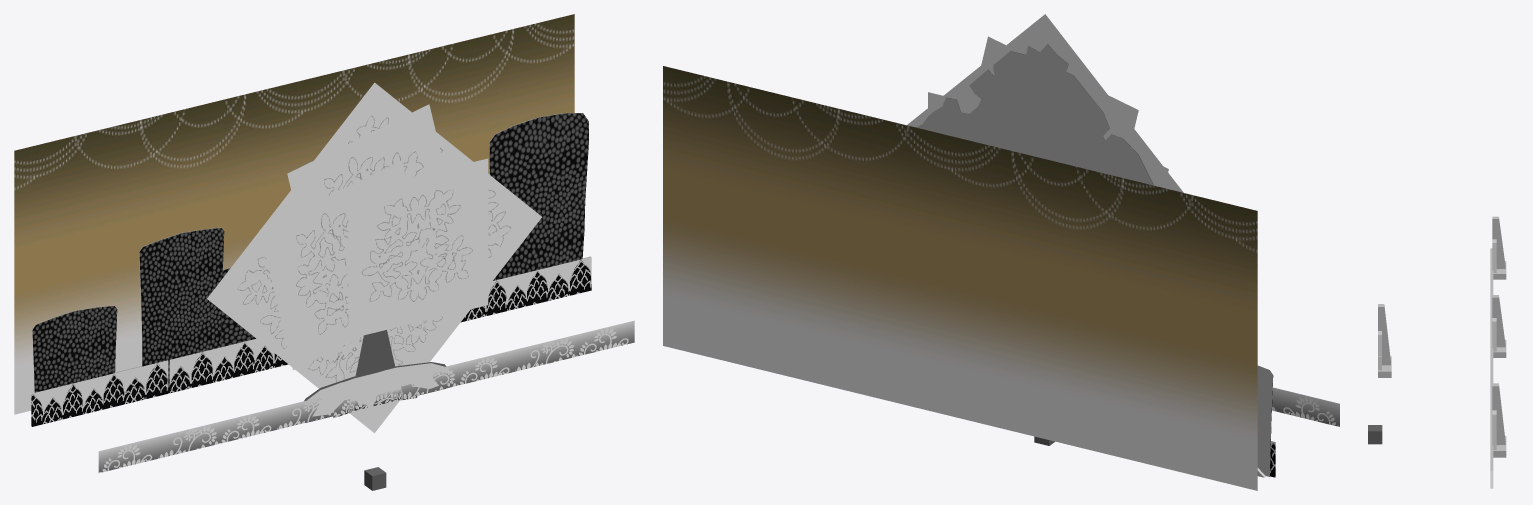
Rendered from stg_02_0_bake_split.dae.
3 renders of one model, left to right at view 1: azimuth 30°, elevation 25°; view 2: azimuth 150°, elevation 25°; view 3: azimuth 270°, elevation 25°, orthographic. The views are drawn at different scales.
Visible parts, largest first — view 1: pPlane442_q00034, S_tree_02_06_VC, S_tree_02_02_VC, pPlane59_q00014, pPlane45_q00013, S_tree_02_05_VC, S_kusa_01_VC, polySurface1257_q00016, S_tree_02_06, S_tree_02_04_VC, pPlane65_q00015, S_tree_02_02 (+8 smaller); view 2: pPlane442_q00034, S_tree_02_08, S_tree_02_02_VC, polySurface1258_q00033, S_kusa_01_VC; view 3: polySurface1252_q00029, pCube24_q00025, pCube24_q00022, pCube24_q00019, pCube24_q00006, pCube25_q00000, pCube23_q00024, pCube22_q00023.
Part boxes in pixels (x1,y1,x2,y2): pPlane442_q00034: (14, 14, 574, 414); S_tree_02_06_VC: (348, 158, 488, 338); S_tree_02_02_VC: (207, 82, 541, 433); pPlane59_q00014: (489, 113, 588, 279); pPlane45_q00013: (139, 228, 224, 393); S_tree_02_05_VC: (259, 160, 405, 370); S_kusa_01_VC: (98, 320, 634, 472); polySurface1257_q00016: (31, 260, 591, 426); S_tree_02_06: (362, 189, 472, 301); S_tree_02_04_VC: (287, 104, 444, 211); pPlane65_q00015: (32, 306, 117, 392); S_tree_02_02: (237, 115, 510, 381); pPlane442_q00034: (663, 66, 1257, 490); S_tree_02_08: (916, 44, 1153, 185); S_tree_02_02_VC: (907, 14, 1183, 192); polySurface1258_q00033: (1257, 366, 1272, 476); S_kusa_01_VC: (1272, 387, 1339, 426); polySurface1252_q00029: (1490, 248, 1493, 488); pCube24_q00025: (1492, 383, 1505, 444); pCube24_q00022: (1492, 216, 1505, 268); pCube24_q00019: (1492, 295, 1505, 347); pCube24_q00006: (1378, 304, 1390, 365); pCube25_q00000: (1368, 425, 1382, 444); pCube23_q00024: (1492, 410, 1496, 449); pCube22_q00023: (1493, 436, 1506, 457).
Bounding box in the file's own units: 40 × 27.5 × 10.5.
